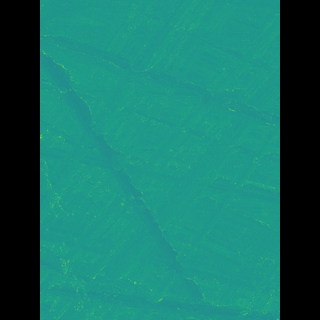Loch: (71, 0, 250, 320), (69, 48, 196, 312)
